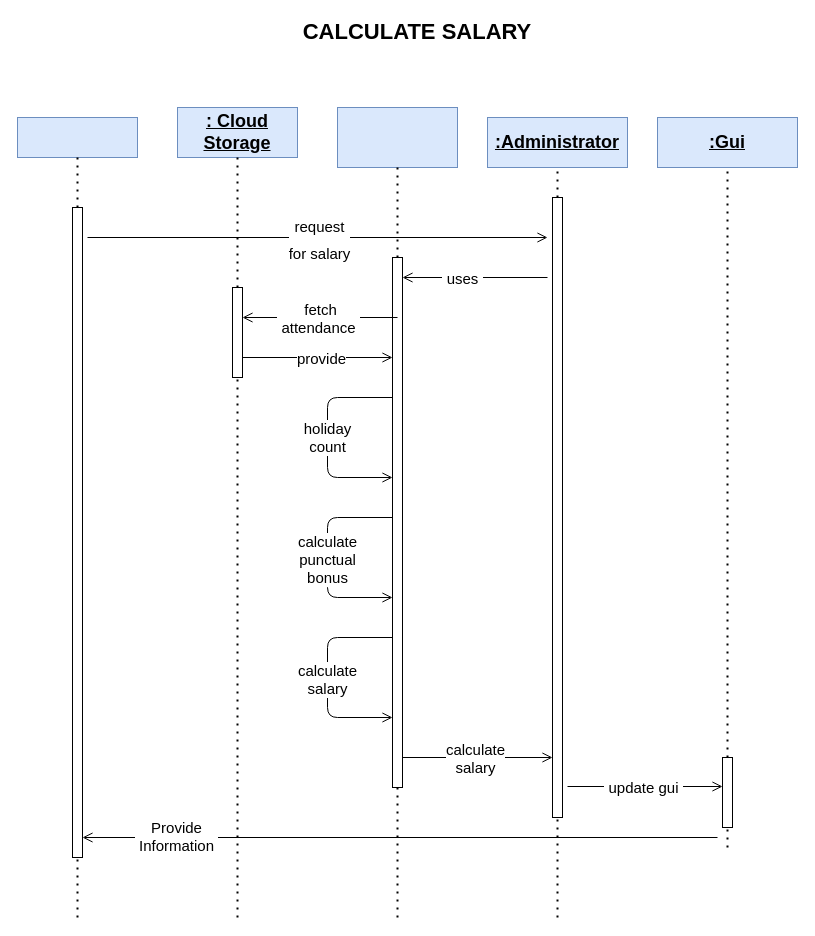
Image size: 815x936. Some labels were removed from this diagram. The shapes that lost their labels are listed below. From the top down, each one's centre as x and y in pixels, then its label:
At point 77,137: ": Employee".
At point 397,137: ":Salary Calculation".
